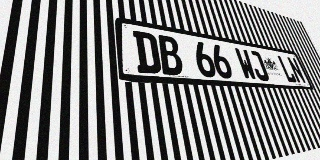6: (191, 40, 218, 78), (209, 43, 234, 79)
B: (156, 34, 185, 76)
D: (133, 30, 162, 74)
J: (247, 50, 270, 81)
L: (276, 55, 298, 83)
N: (286, 57, 307, 84)
W: (234, 48, 258, 80)
